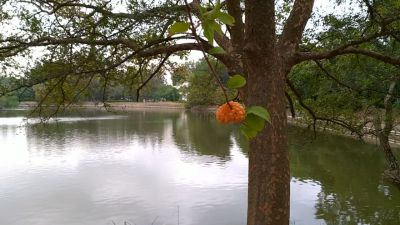eggs: (215, 100, 248, 126)
